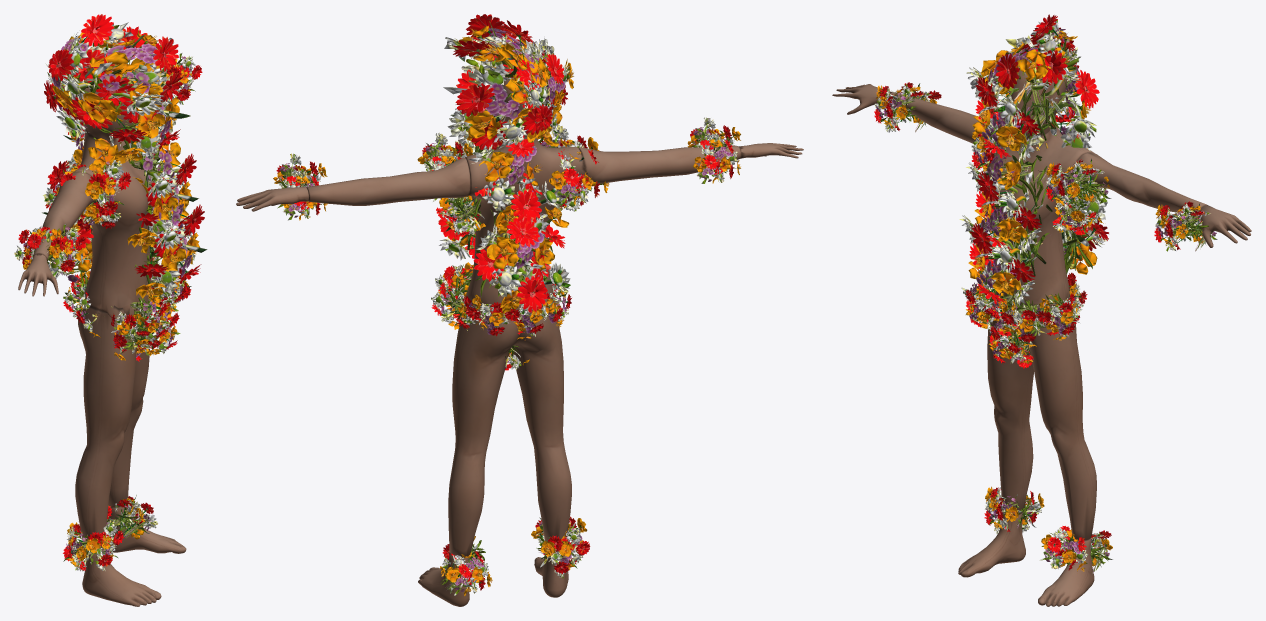
Rendered from flowerman.glb.
3 views of the same model, side by side, from view 1: azimuth 30°, elevation 25°; view 2: azimuth 150°, elevation 25°; view 3: azimuth 270°, elevation 25° (orthographic). The views are drawn at different scales.
Parts seen in each view (by area): view 1: BezierCurve, Ch36.002; view 2: BezierCurve, Ch36.002; view 3: BezierCurve, Ch36.002.
Part boxes in pixels (box(x1,y1,x2,y2)): BezierCurve: box(14, 14, 207, 571); Ch36.002: box(18, 54, 186, 606); BezierCurve: box(273, 14, 740, 595); Ch36.002: box(236, 64, 803, 606); BezierCurve: box(874, 14, 1217, 574); Ch36.002: box(832, 58, 1251, 606).
Bounding box in the file's own units: 78.3 × 120 × 81.98.
Materials: 2 (2 with a texture image).
